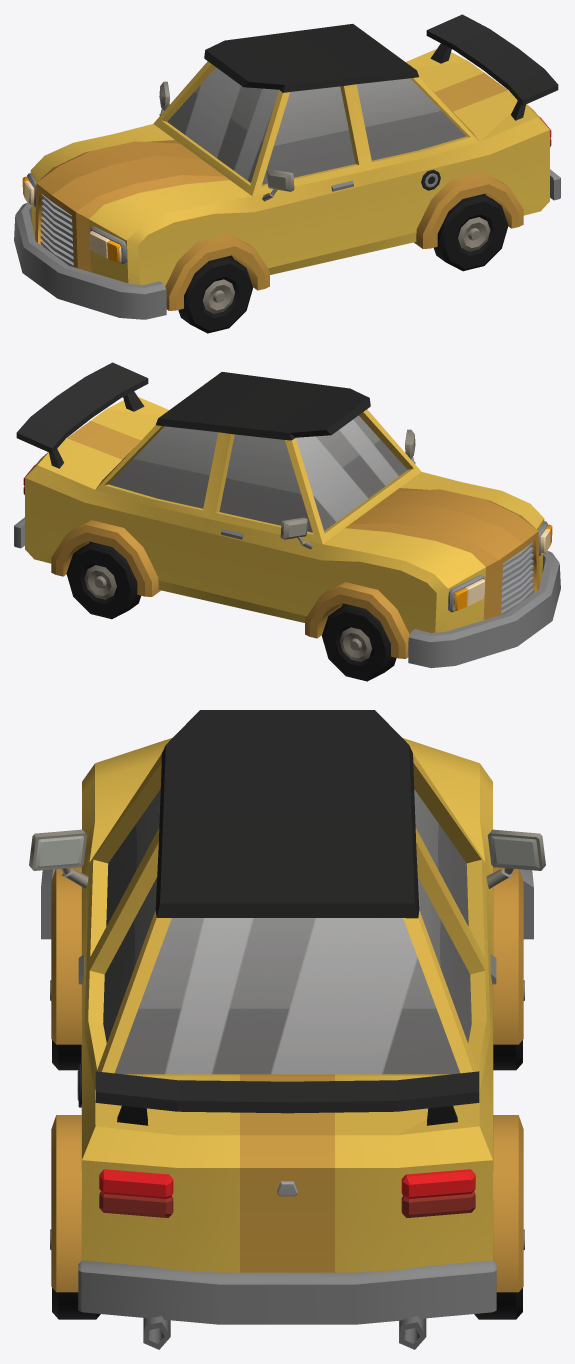
The model's file is Car_1_U.gltf.
The picture shows the model from 3 angles, top to bottom: view 1: azimuth 30°, elevation 25°; view 2: azimuth 150°, elevation 25°; view 3: azimuth 270°, elevation 25°; orthographic projection. The views are drawn at different scales.
Parts seen in each view (by area): view 1: Car_1_U, RL, FL; view 2: Car_1_U, RR, FR; view 3: Car_1_U, RL, RR, FR, FL.
Part boxes in pixels (x1,y1,x2,y2): Car_1_U: (14,14,560,319); RL: (434,194,508,271); FL: (178,256,252,333); Car_1_U: (14,362,560,668); RR: (66,542,140,619); FR: (322,604,396,681); Car_1_U: (29,710,545,1349); RL: (50,1229,100,1319); RR: (474,1229,524,1319); FR: (493,980,524,1070); FL: (50,980,81,1070).
Size of the model in its own units: 3.64 by 1.5 by 1.7.
4 materials, 4 textured.
